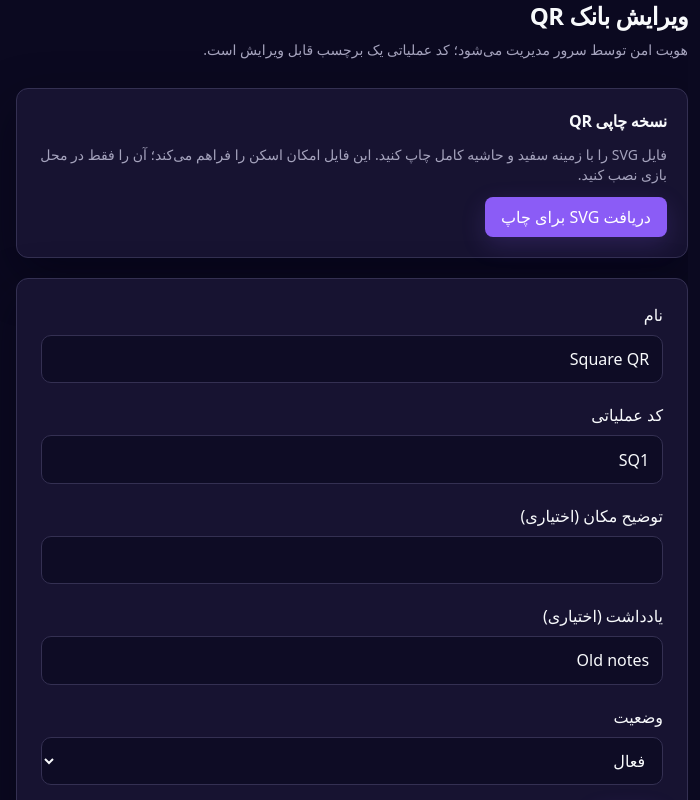
Test: clears QR notes and refreshes printable availability after deactivation
Clear the field labelled "یادداشت (اختیاری)" at [352, 660], box x1=41 y1=636 x2=663 y2=684
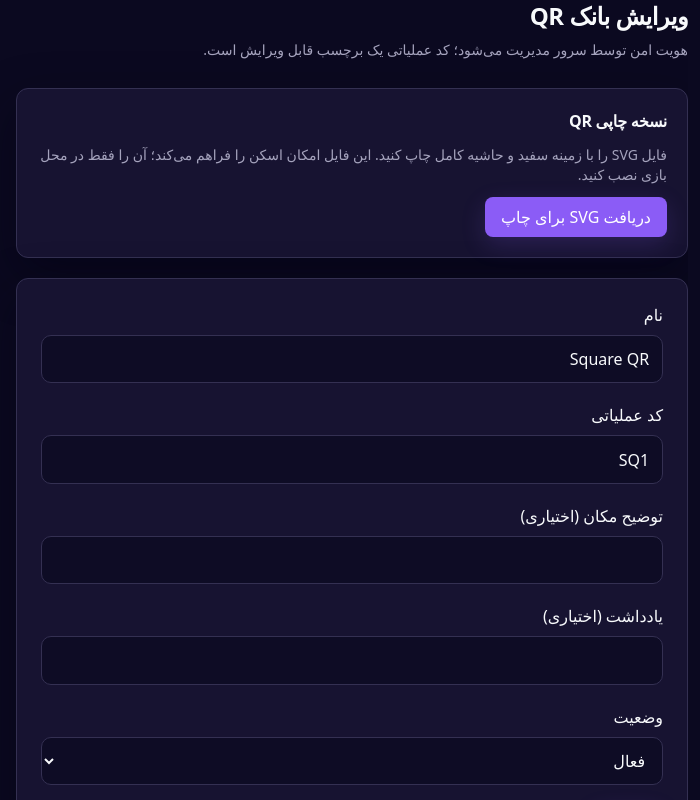
Select "غیرفعال" in the dropdown labelled "وضعیت" at [352, 761], box x1=41 y1=736 x2=663 y2=785
(page scrolled)
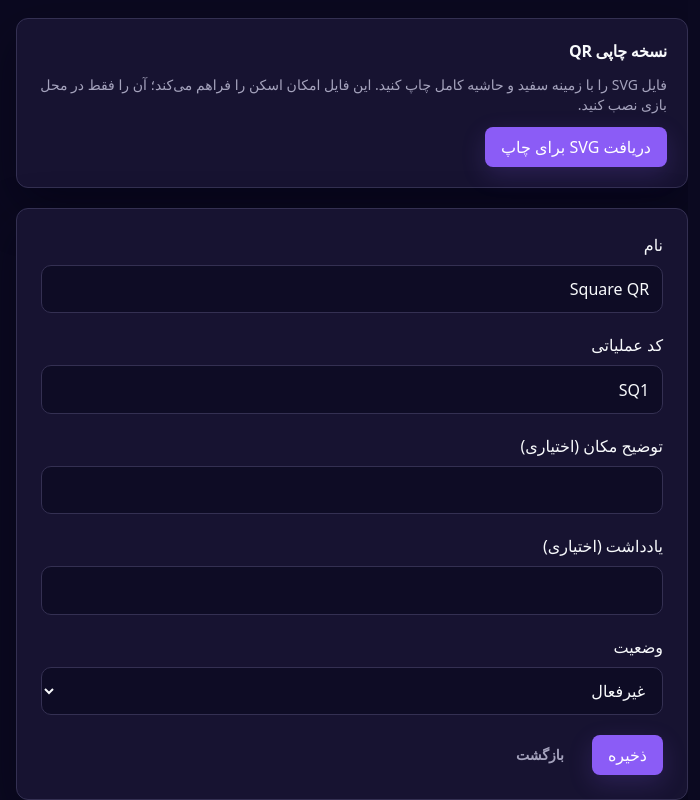
Click the button "ذخیره".
click(627, 755)  # box x1=592 y1=735 x2=663 y2=775
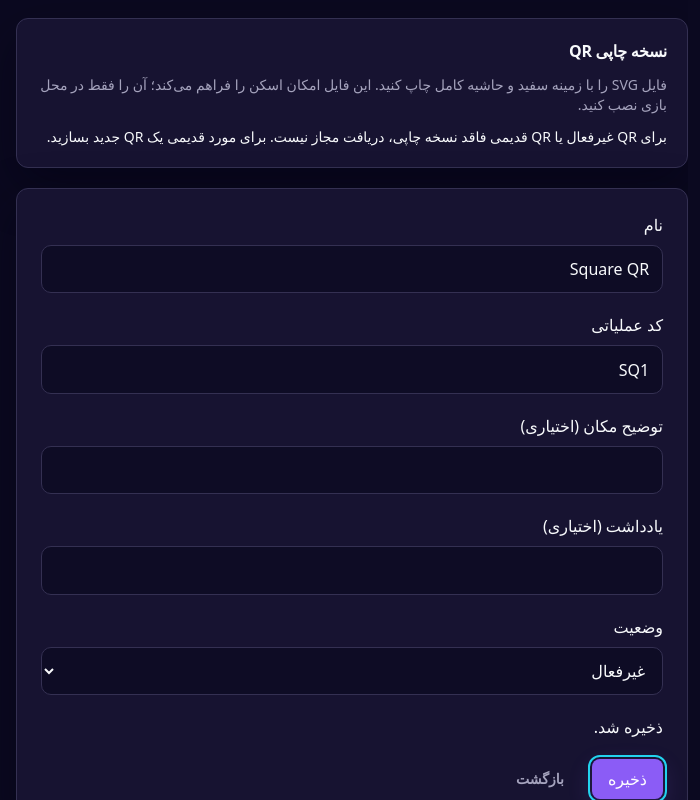
Check: the button "دریافت SVG برای چاپ" is gone
